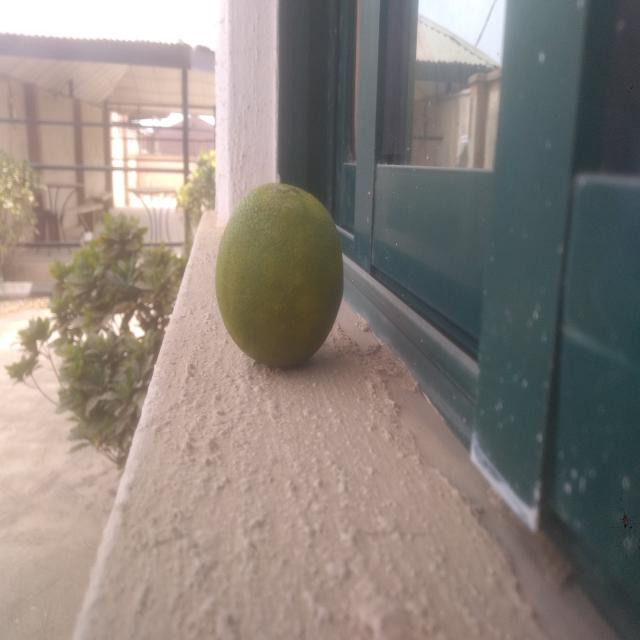Unripe: (206, 148, 362, 406)
